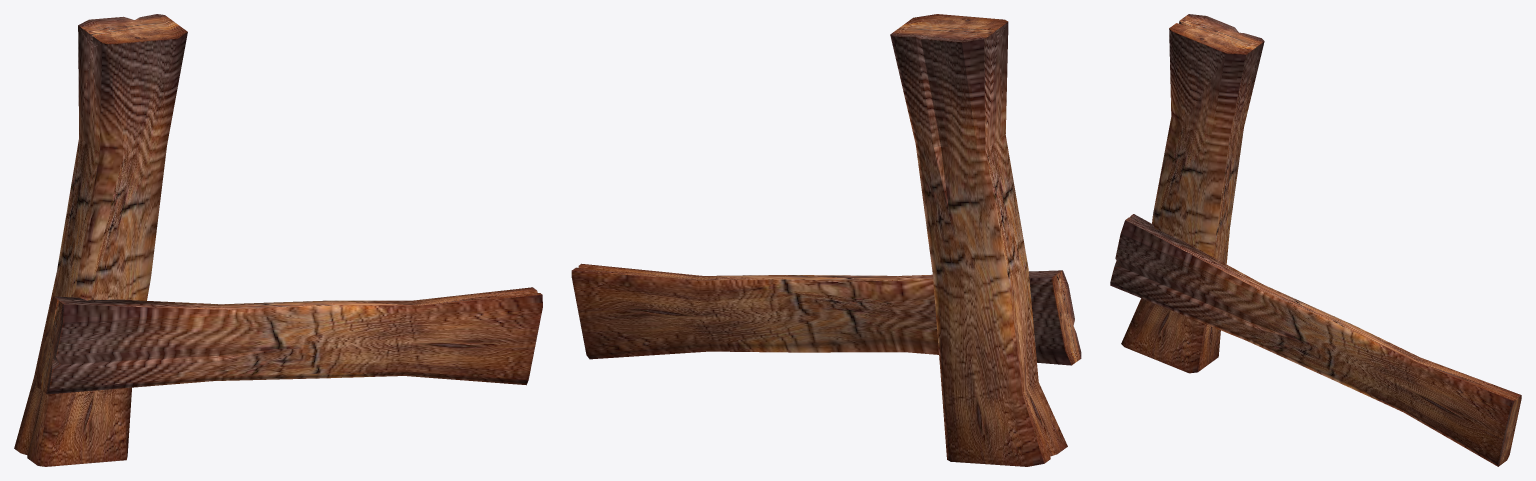
Rendered from CercaTres.fbx.
3 views of the same model, side by side, from view 1: azimuth 30°, elevation 25°; view 2: azimuth 150°, elevation 25°; view 3: azimuth 330°, elevation 25° (orthographic). The views are drawn at different scales.
Parts seen in each view (by area): view 1: Cerca002; view 2: Cerca002; view 3: Cerca002.
Part boxes in pixels (left/top/right/bottom): Cerca002: left=14, top=14, right=542, bottom=466; Cerca002: left=571, top=14, right=1081, bottom=466; Cerca002: left=1110, top=14, right=1521, bottom=466.
Bounding box in the file's own units: 0.3308 × 0.2778 × 0.0502.
